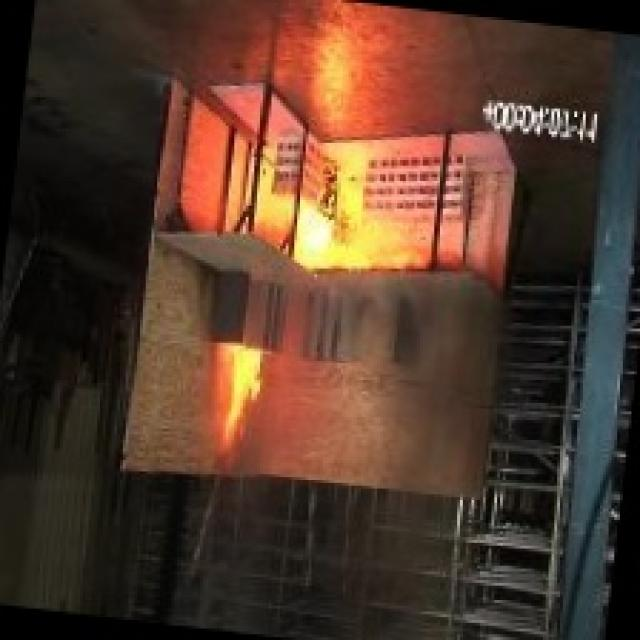fire: (248, 140, 428, 306), (188, 306, 312, 488)
